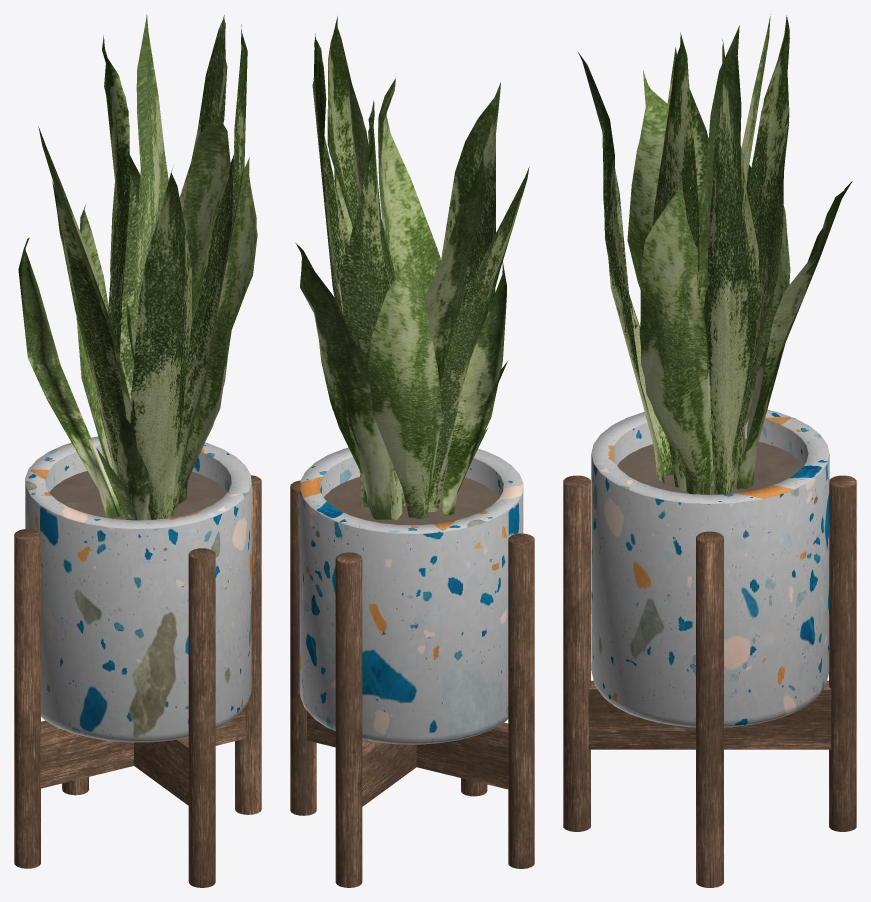
Rendered from snake_plant_2_low_poly.glb.
3 views of the same model, side by side, from view 1: azimuth 30°, elevation 25°; view 2: azimuth 150°, elevation 25°; view 3: azimuth 270°, elevation 25° (orthographic). The views are drawn at different scales.
Visible parts, largest first — view 1: Pianta_2_0; view 2: Pianta_2_0; view 3: Pianta_2_0.
Part boxes in pixels (x1,y1,x2,y2): Pianta_2_0: [14, 14, 261, 887]; Pianta_2_0: [290, 16, 534, 887]; Pianta_2_0: [563, 14, 856, 887].
Bounding box in the file's own units: 0.2158 × 0.678 × 0.2146.
Materials: 2 (2 with a texture image).
